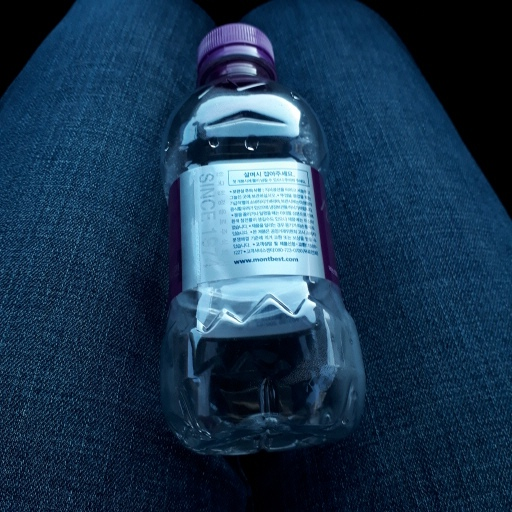Plastic_0: (153, 24, 363, 455)
